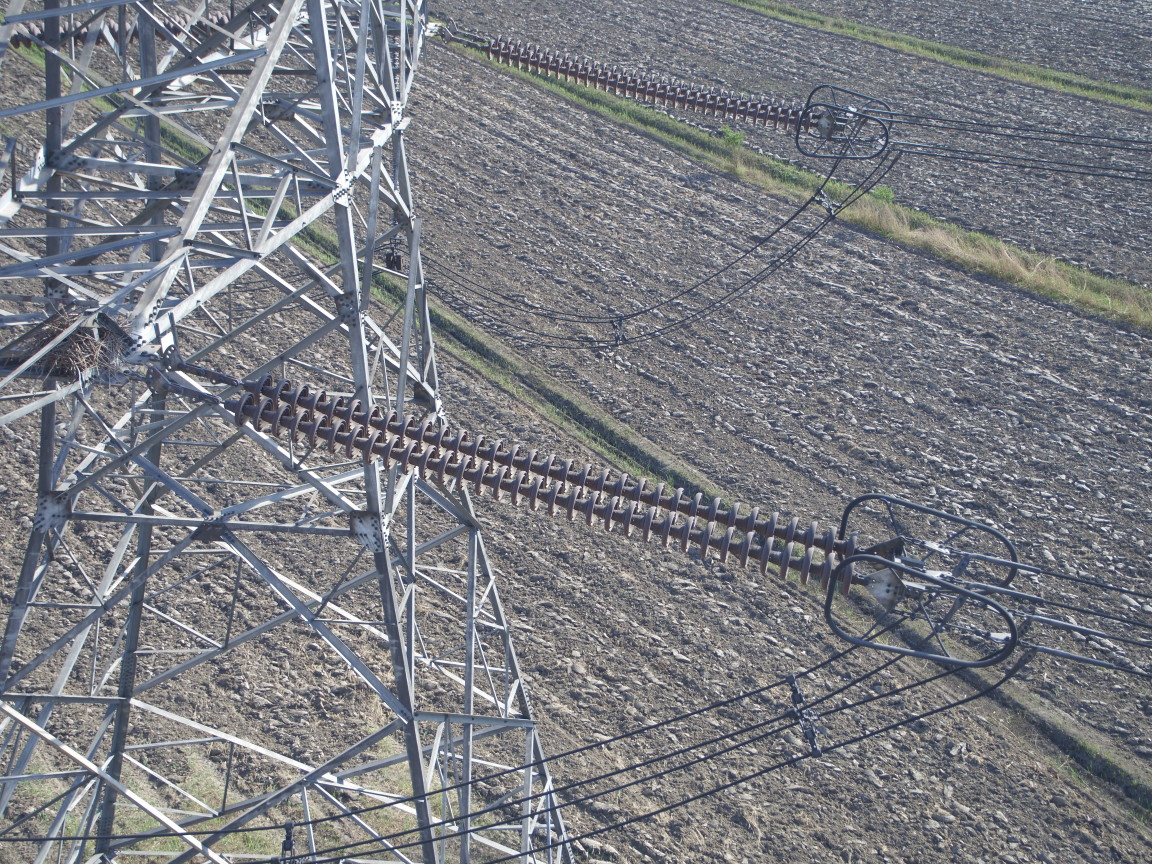insulator: (196, 367, 881, 597), (456, 30, 826, 133)
